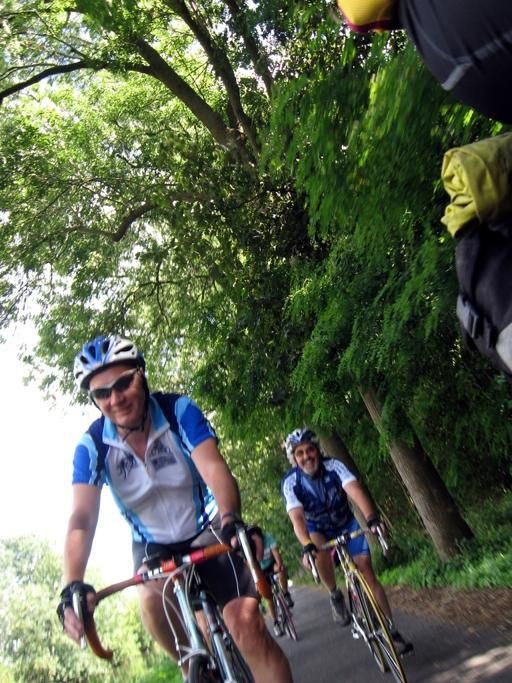non-vehicle: (69, 517, 274, 682), (303, 522, 410, 682), (258, 565, 300, 643)
